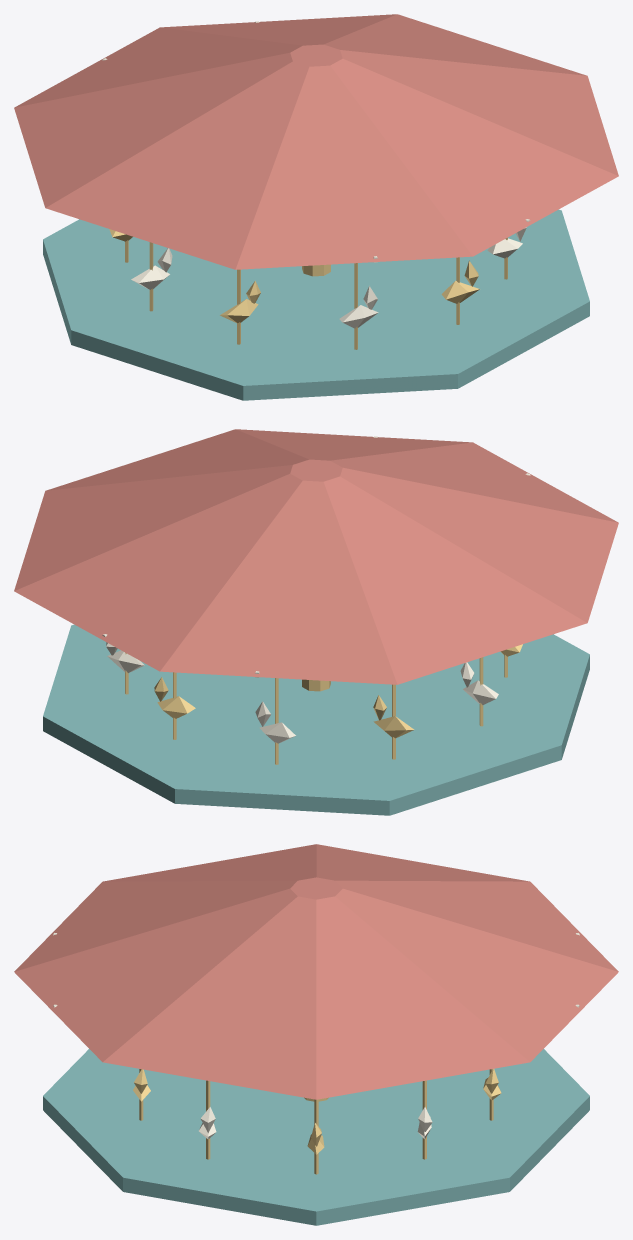
3 renders of one model, top to bottom at view 1: azimuth 30°, elevation 25°; view 2: azimuth 150°, elevation 25°; view 3: azimuth 270°, elevation 25°, orthographic. The views are drawn at different scales.
Size of the model in its own units: 23 by 9.3 by 23.
